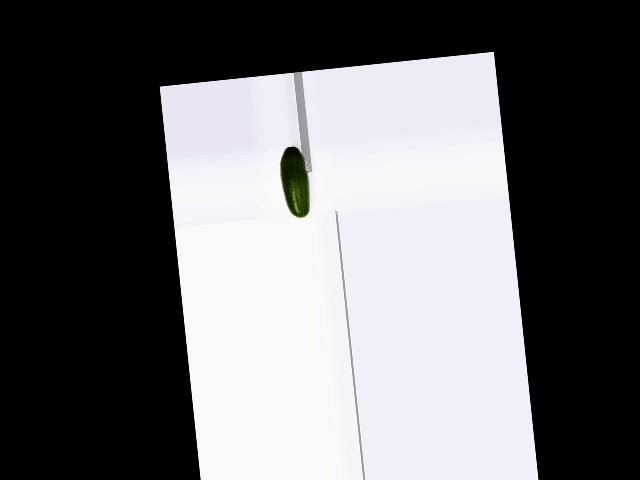cucumber: (277, 143, 312, 219)
